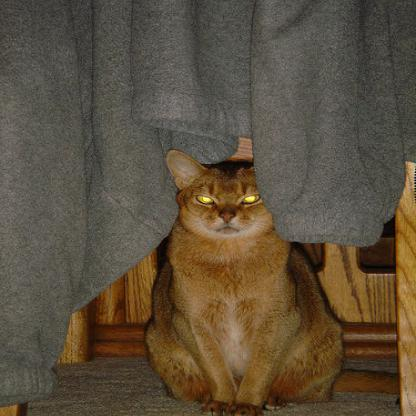cat: (144, 147, 345, 415)
